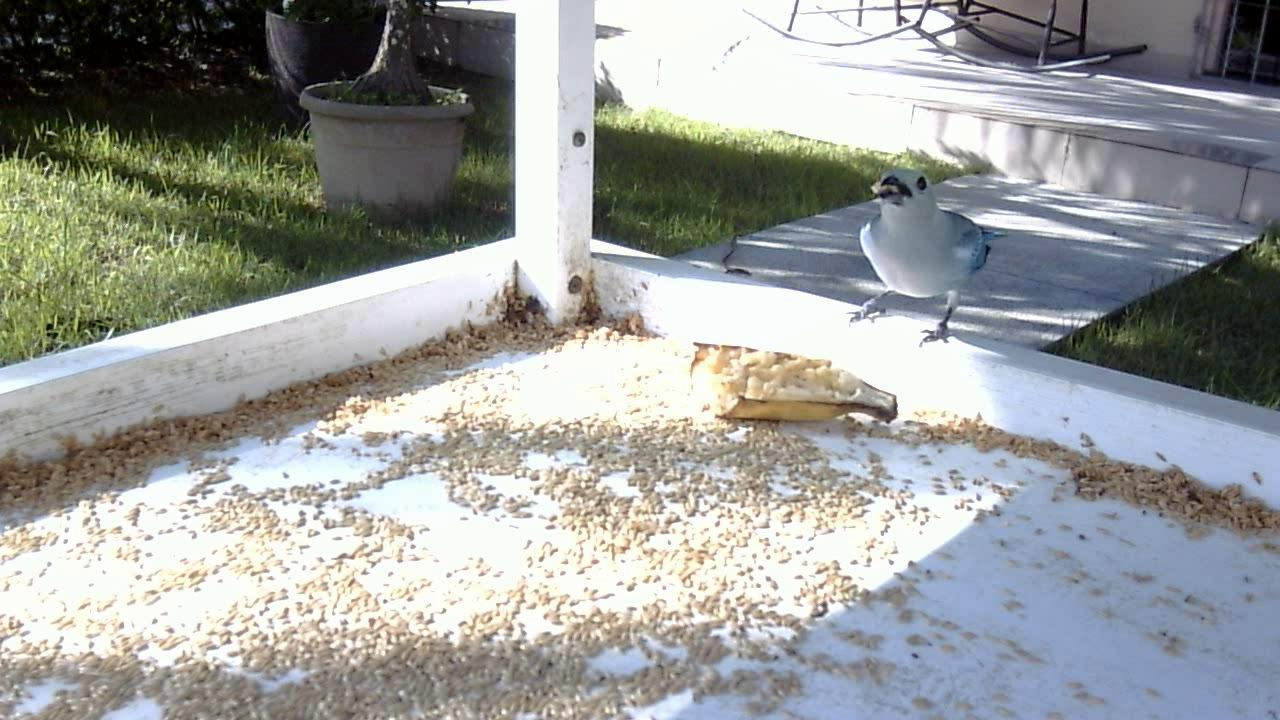sanhaco_da_amazonia: (835, 157, 1015, 357)
